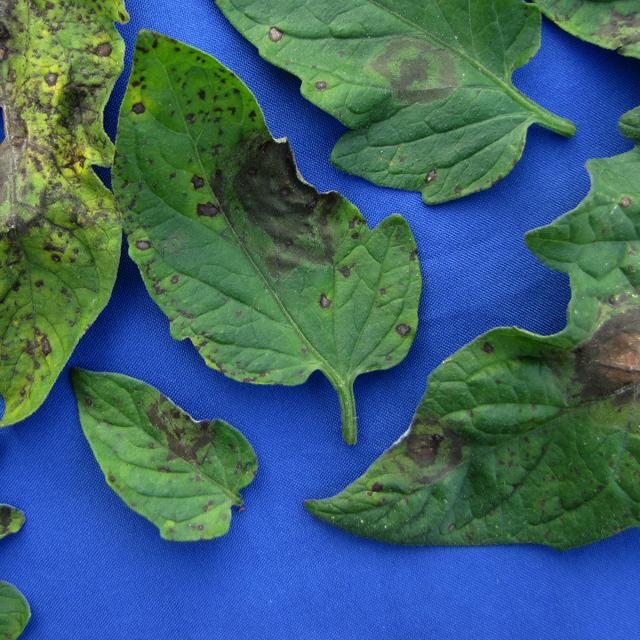Tomato leaf late blight: (293, 108, 640, 587), (104, 3, 435, 430), (142, 0, 550, 188), (0, 0, 136, 433), (0, 0, 53, 592), (452, 0, 640, 88)
